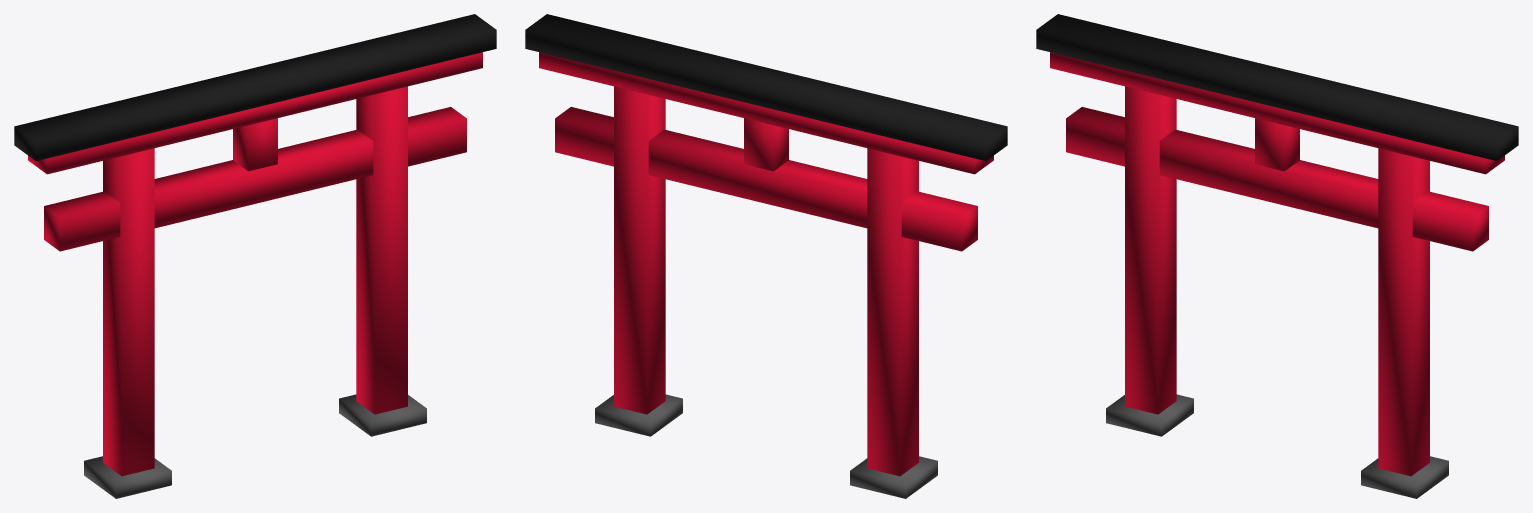
File: torii.obj
The picture shows the model from 3 angles, left to right: view 1: azimuth 30°, elevation 25°; view 2: azimuth 150°, elevation 25°; view 3: azimuth 330°, elevation 25°; orthographic projection.
Parts seen in each view (by area): view 1: Cube.001; view 2: Cube.001; view 3: Cube.001.
Part boxes in pixels (x1,y1,x2,y2): Cube.001: (14, 14, 496, 498); Cube.001: (525, 14, 1007, 498); Cube.001: (1036, 14, 1518, 498).
Bounding box in the file's own units: 6.68 × 5.15 × 0.8093.
1 material, 1 textured.
